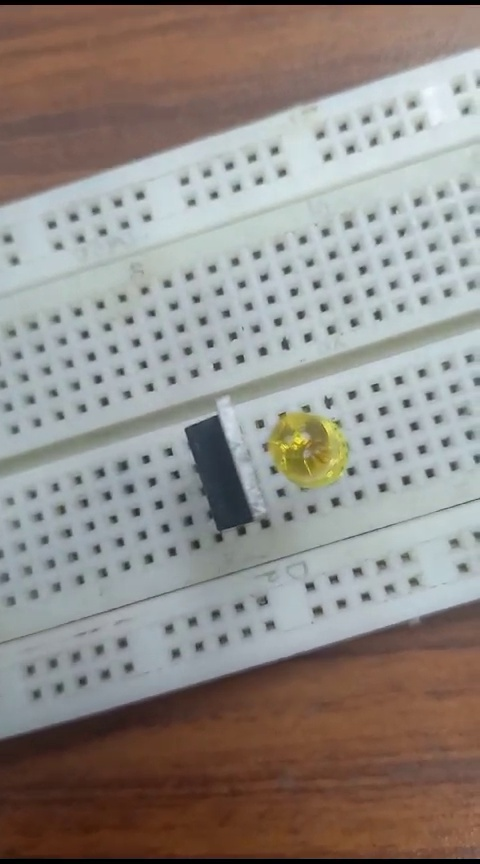LED: (275, 415, 343, 483)
voltage regulator: (175, 396, 266, 539)
